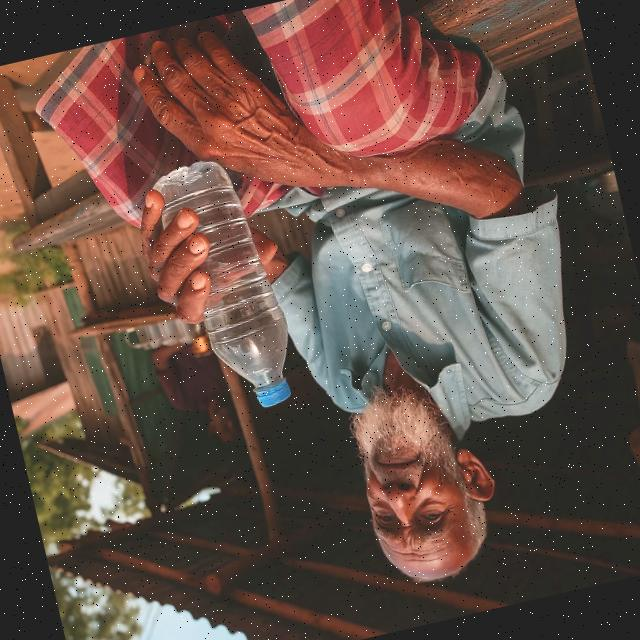plastic: (144, 149, 306, 425)
